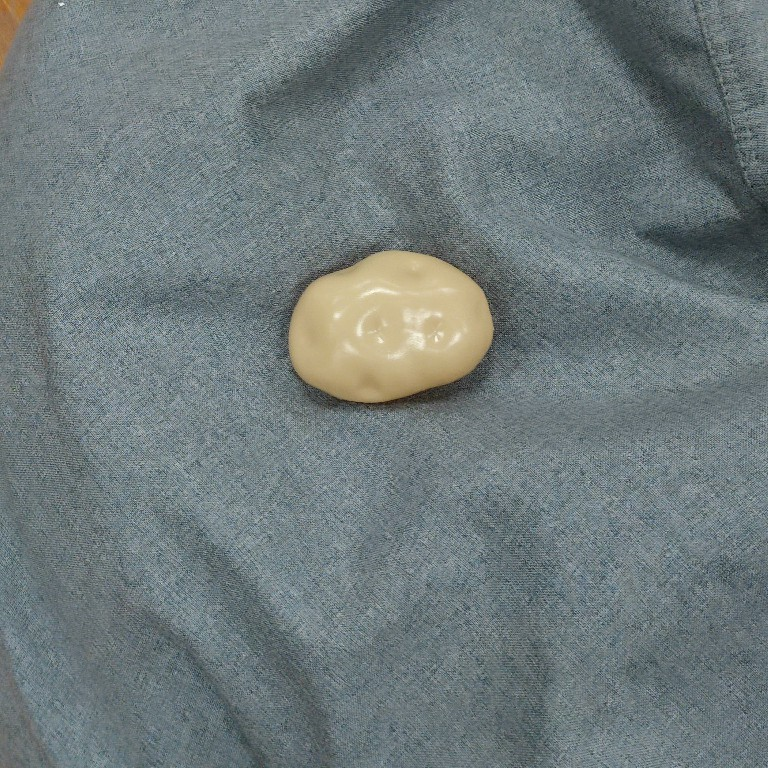fruit_potato: (281, 242, 498, 409)
